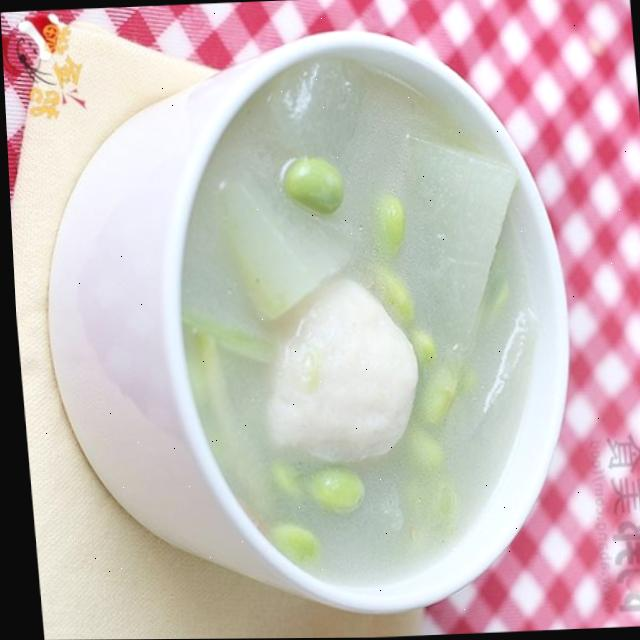汤锅炖物: (148, 37, 581, 596)
